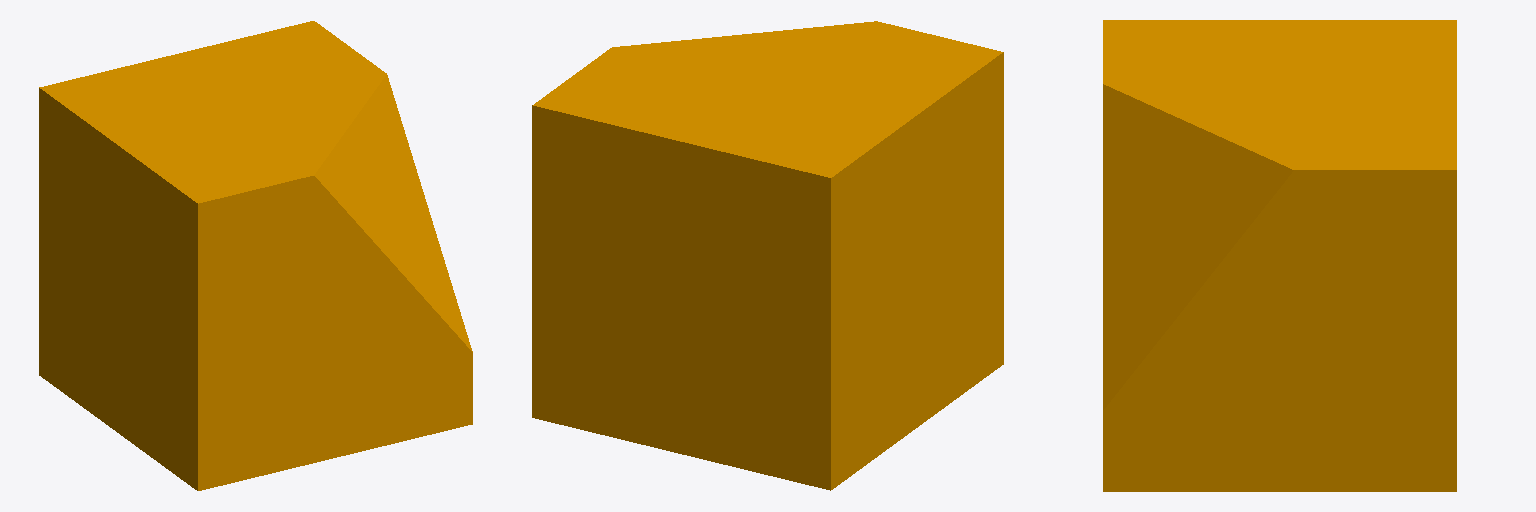
URDF robot description (object):
<?xml version="1.0"?>
<robot name="object">
  <link name="object">
    <visual>
      <origin xyz="0 0 0"/>
      <geometry>
        <mesh filename="meshes/set2/set_obj7_block.obj" scale=".03 .03 .03"/>
      </geometry>
    </visual>
    <collision>
  <origin xyz="0 0 0"/>
  <geometry>
    <mesh filename="meshes/set2/set_obj7_block_0decompose.obj" scale=".03 .03 .03"/>
<!--          <mesh filename="meshes/custom/obj0_ball.obj" scale=".05 .05 .05"/>-->
  </geometry>
</collision>

<!--    <collision>-->
<!--      <origin xyz="0 0 0"/>-->
<!--      <geometry>-->
<!--        <mesh filename="meshes/set2/set_obj7_block.obj" scale=".03 .03 .03"/>-->
<!--&lt;!&ndash;          <mesh filename="meshes/custom/obj0_ball.obj" scale=".05 .05 .05"/>&ndash;&gt;-->
<!--      </geometry>-->
<!--    </collision>-->
    <inertial>
      <density value="1000.0"/>
    </inertial>
  </link>
</robot>

--- Facts derived from the render (not from the file) ---
The picture shows the robot from 3 angles, left to right: view 1: azimuth 30°, elevation 25°; view 2: azimuth 150°, elevation 25°; view 3: azimuth 270°, elevation 25°; orthographic projection.
Model object with 1 links and 0 joints (none), rooted at object, posed every joint at zero.
Visible links, largest first — view 1: object; view 2: object; view 3: object.
Boxes of the visible links, x1,y1,x2,y2 form: object: [39, 21, 472, 490]; object: [532, 21, 1003, 490]; object: [1103, 20, 1456, 491].
Bounding box of the posed robot: 0.06 × 0.06 × 0.06 m (x, y, z).
1 mesh visuals loaded from 1 distinct referenced files (1 OBJ).